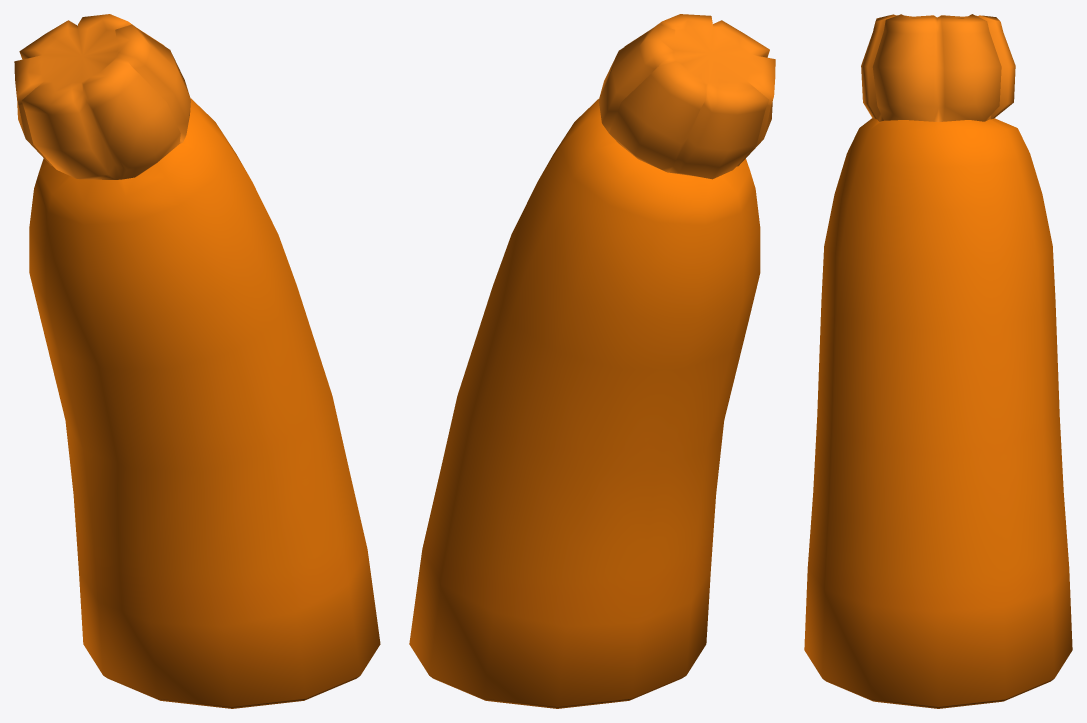
File: Zucchini_green_half_01.fbx
3 views of the same model, side by side, from view 1: azimuth 30°, elevation 25°; view 2: azimuth 150°, elevation 25°; view 3: azimuth 270°, elevation 25° (orthographic). The views are drawn at different scales.
Visible parts, largest first — view 1: Zucchini_green_half_01; view 2: Zucchini_green_half_01; view 3: Zucchini_green_half_01.
Boxes of the visible parts, bbox=[...] form: Zucchini_green_half_01: bbox=[14, 14, 380, 708]; Zucchini_green_half_01: bbox=[409, 14, 775, 708]; Zucchini_green_half_01: bbox=[804, 14, 1072, 708].
Bounding box in the file's own units: 50.63 × 38.09 × 91.98.
